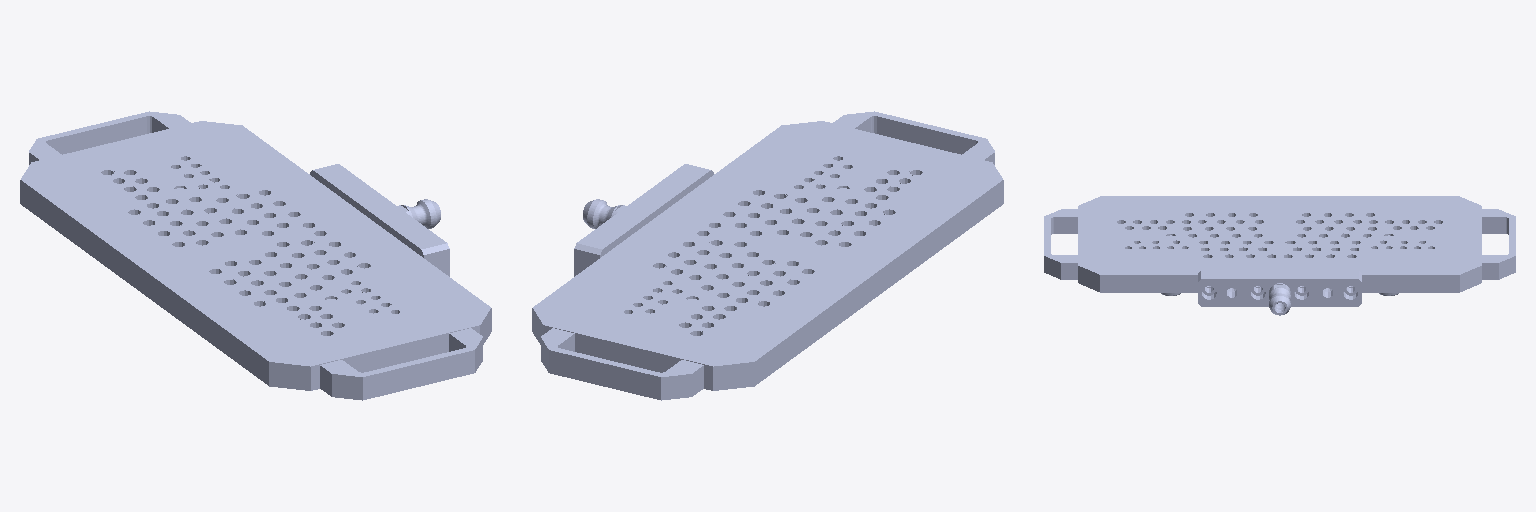
URDF robot description (pallet):
<?xml version="1.0" encoding="utf-8"?>
<!-- This URDF was automatically created by SolidWorks to URDF Exporter! Originally created by [author] ([email redacted]) 
     Commit Version: 1.6.0-4-g7f85cfe  Build Version: 1.6.7995.38578
     For more information, please see http://wiki.ros.org/sw_urdf_exporter -->
<robot
  name="pallet">
  <link
    name="base_link">
    <inertial>
      <origin
        xyz="-0.13161 -4.7384E-07 -0.00078465"
        rpy="0 0 0" />
      <mass
        value="1.1989" />
      <inertia
        ixx="0.012162"
        ixy="-7.9893E-09"
        ixz="-2.7625E-07"
        iyy="0.0026858"
        iyz="3.7325E-09"
        izz="0.014765" />
    </inertial>
    <visual>
      <origin
        xyz="0 0 0"
        rpy="0 0 0" />
      <geometry>
        <mesh
          filename="package://pallet/meshes/base_link.STL" />
      </geometry>
      <material
        name="">
        <color
          rgba="0.79216 0.81961 0.93333 1" />
      </material>
    </visual>
    <collision>
      <origin
        xyz="0 0 0"
        rpy="0 0 0" />
      <geometry>
        <mesh
          filename="package://pallet/meshes/base_link.STL" />
      </geometry>
    </collision>
  </link>
</robot>

--- Facts derived from the render (not from the file) ---
The picture shows the robot from 3 angles, left to right: view 1: azimuth 30°, elevation 25°; view 2: azimuth 150°, elevation 25°; view 3: azimuth 270°, elevation 25°; orthographic projection.
Model pallet with 1 links and 0 joints (none), rooted at base_link, posed every joint at zero.
Links seen in each view (by area): view 1: base_link; view 2: base_link; view 3: base_link.
Boxes of the visible links, <box> form: base_link: <box>20,111,491,400</box>; base_link: <box>532,111,1003,400</box>; base_link: <box>1044,196,1515,315</box>.
Bounding box of the posed robot: 0.2228 × 0.432 × 0.062 m (x, y, z).
Meshes: 1 distinct files referenced, 1 mesh visuals loaded (1 binary STL).